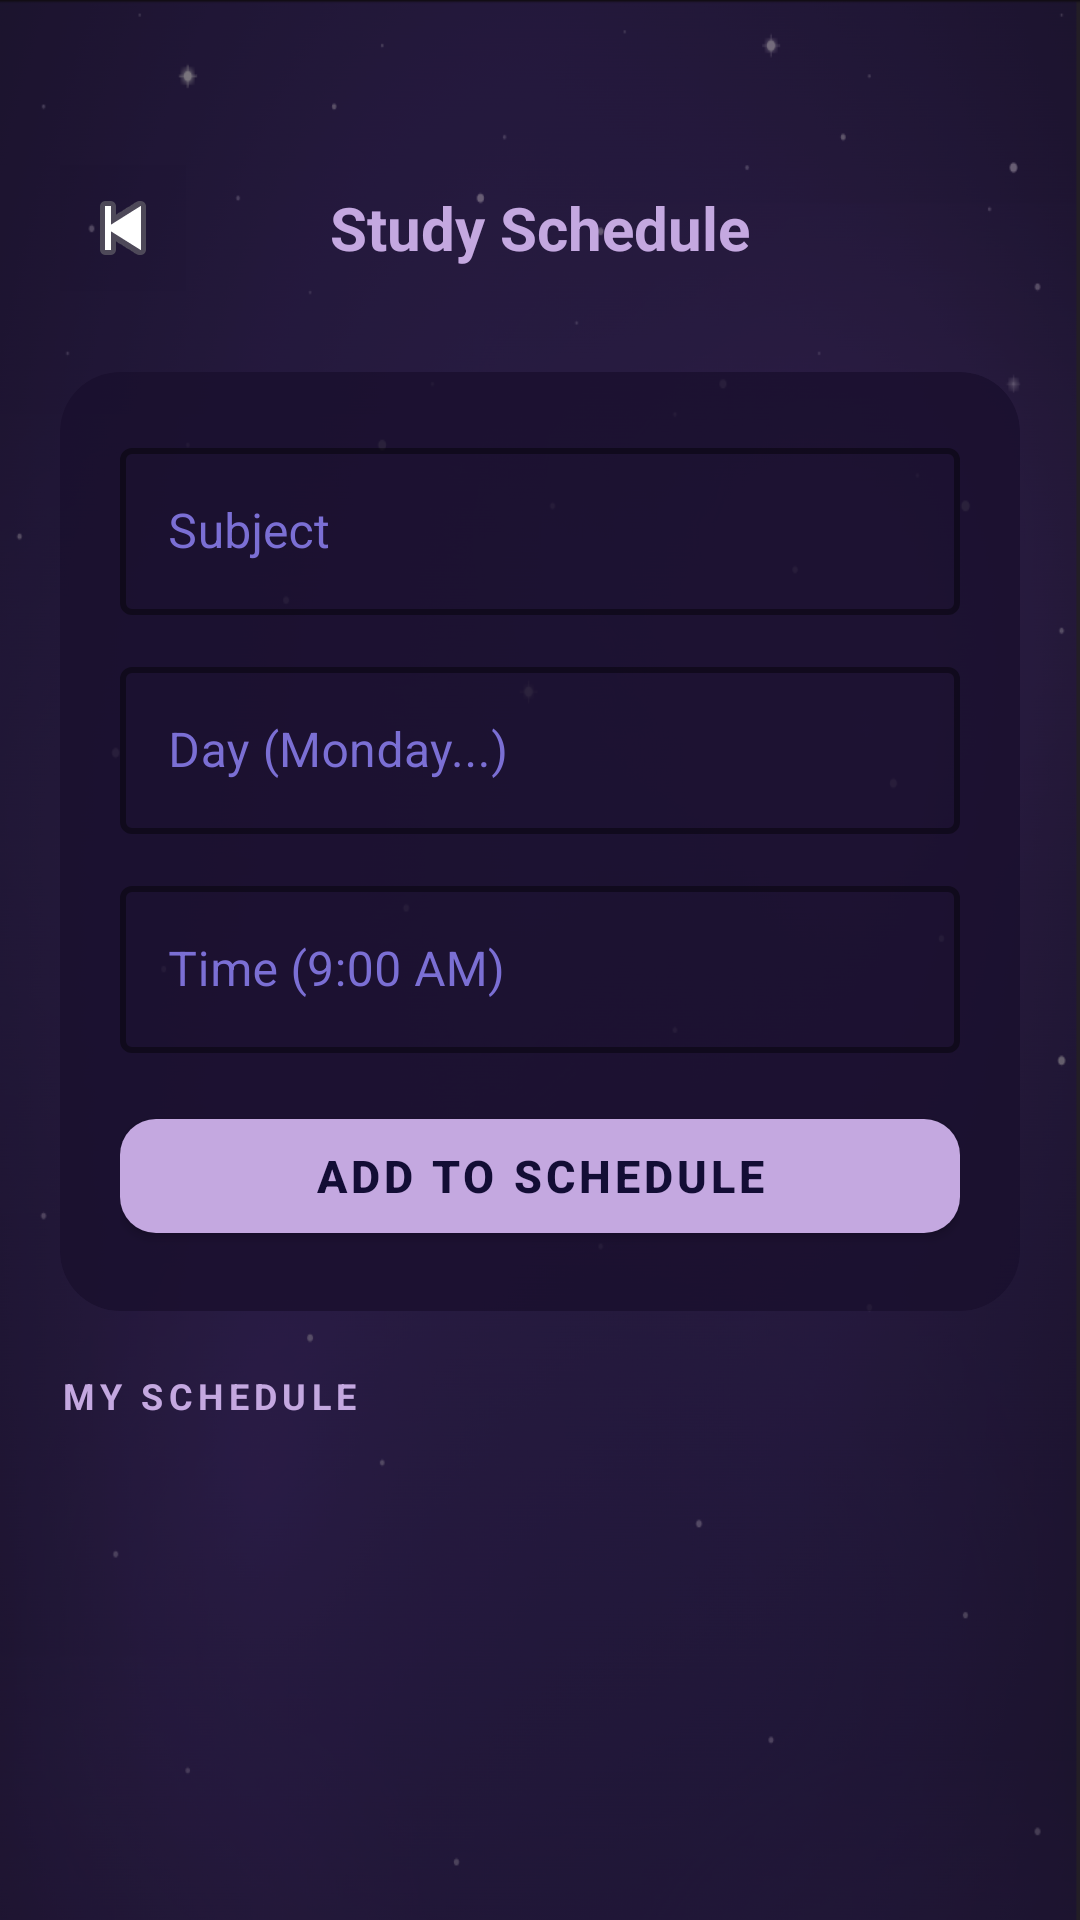

Locate icon controls on the screen. Image size 1080×1920, boxes as (left=x1, top=y1, right=x2, bottom=y2).
previous: (left=89, top=201, right=146, bottom=255)
